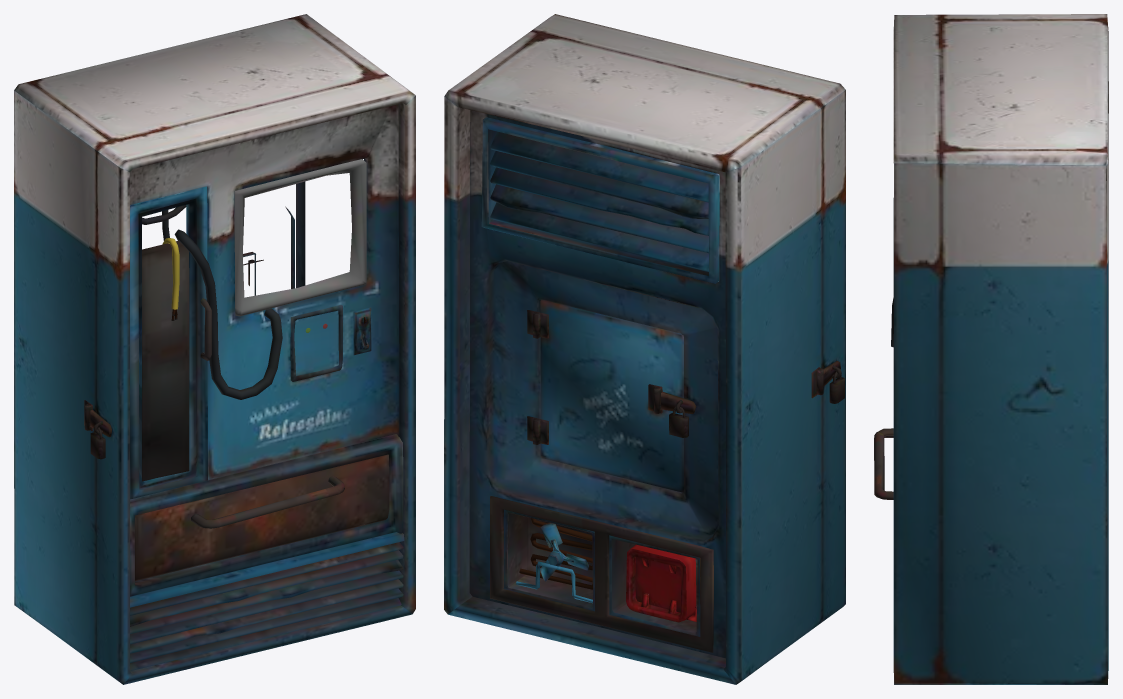
Rendered from npcvendingmachine_extra.glb.
3 renders of one model, left to right at view 1: azimuth 30°, elevation 25°; view 2: azimuth 150°, elevation 25°; view 3: azimuth 270°, elevation 25°, orthographic.
Visible parts, largest first — view 1: vendingmachine_LOD0; view 2: vendingmachine_LOD0; view 3: vendingmachine_LOD0.
Boxes of the visible parts, box(x1,y1,x2,y2) form: vendingmachine_LOD0: box(14, 14, 415, 684); vendingmachine_LOD0: box(444, 14, 845, 684); vendingmachine_LOD0: box(874, 14, 1108, 684).
Size of the model in its own units: 1.32 by 2.15 by 0.8632.
3 materials, 2 textured.
